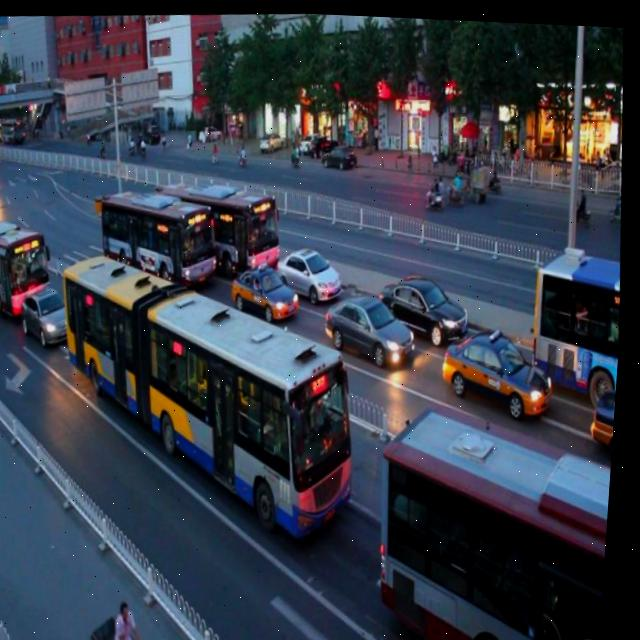car: (441, 318, 561, 427), (321, 282, 418, 371), (381, 265, 475, 346), (229, 254, 304, 326), (274, 235, 346, 306), (23, 282, 83, 349), (591, 373, 622, 461)
van: (49, 232, 373, 550), (375, 390, 620, 640), (96, 175, 224, 300), (157, 166, 288, 283), (528, 240, 628, 389), (0, 204, 56, 309)
